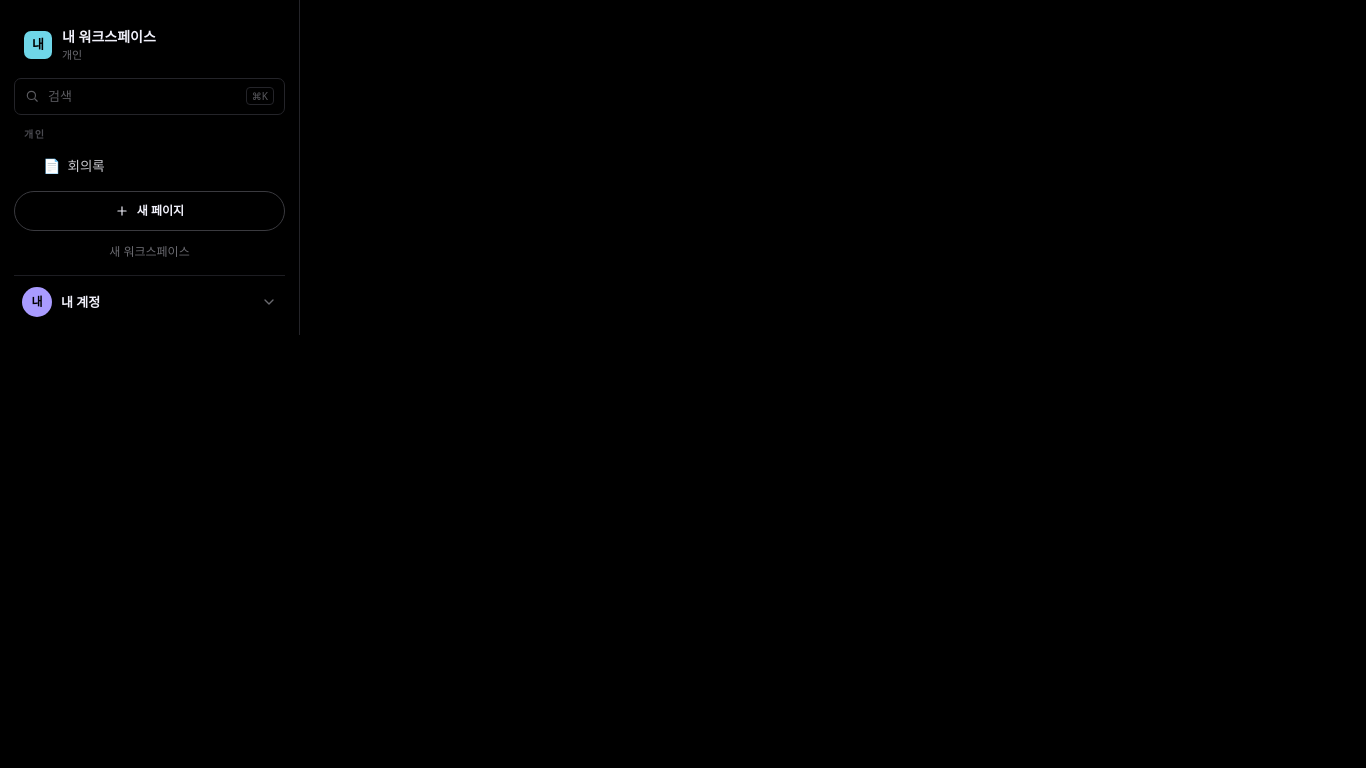
Test case: Sidebar › AC-2: 검색 버튼 클릭으로 명령 팔레트를 연다
Check: the button "회의록" is shown, box left=68, top=156, right=219, bottom=176
Click the button "검색 ⌘K".
click(32, 96)  # box left=14, top=78, right=285, bottom=115
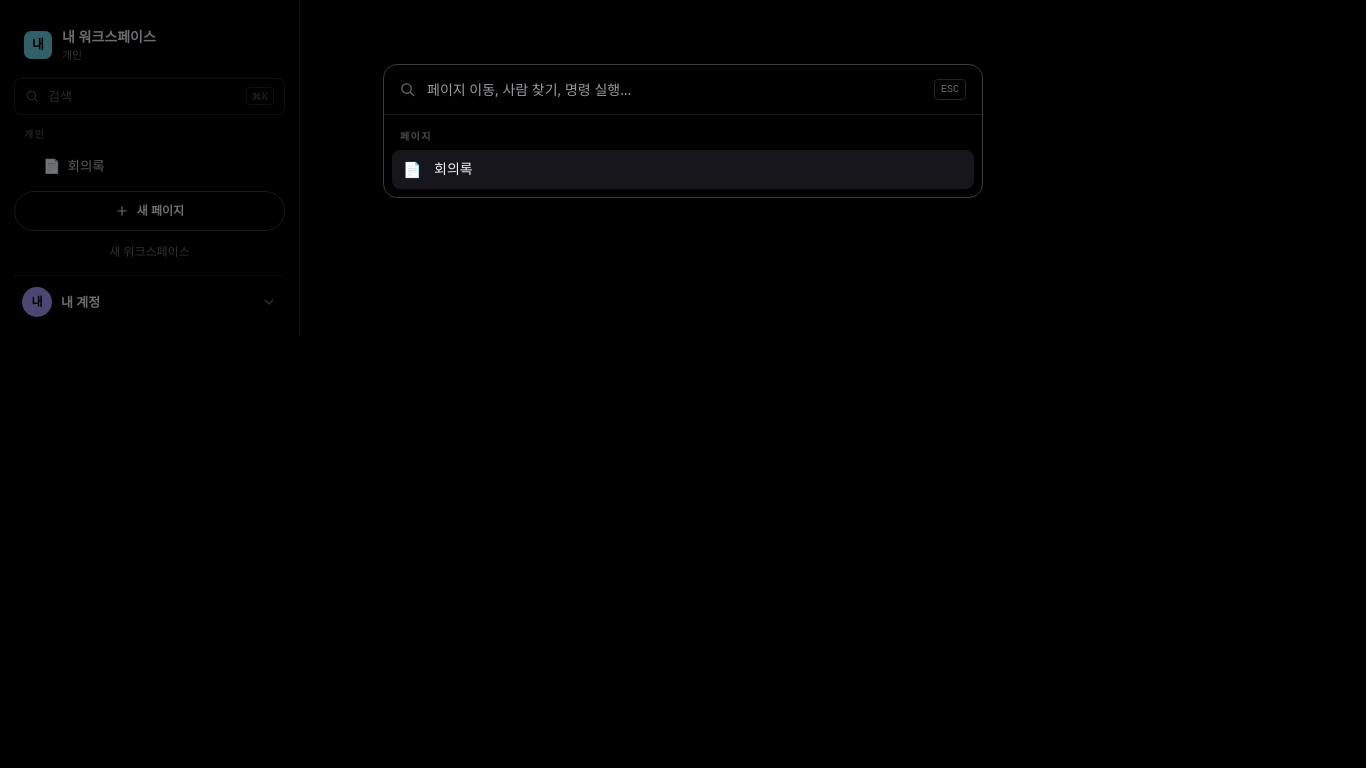
Check: the dialog named "명령 팔레트" is shown, box left=383, top=64, right=983, bottom=198
